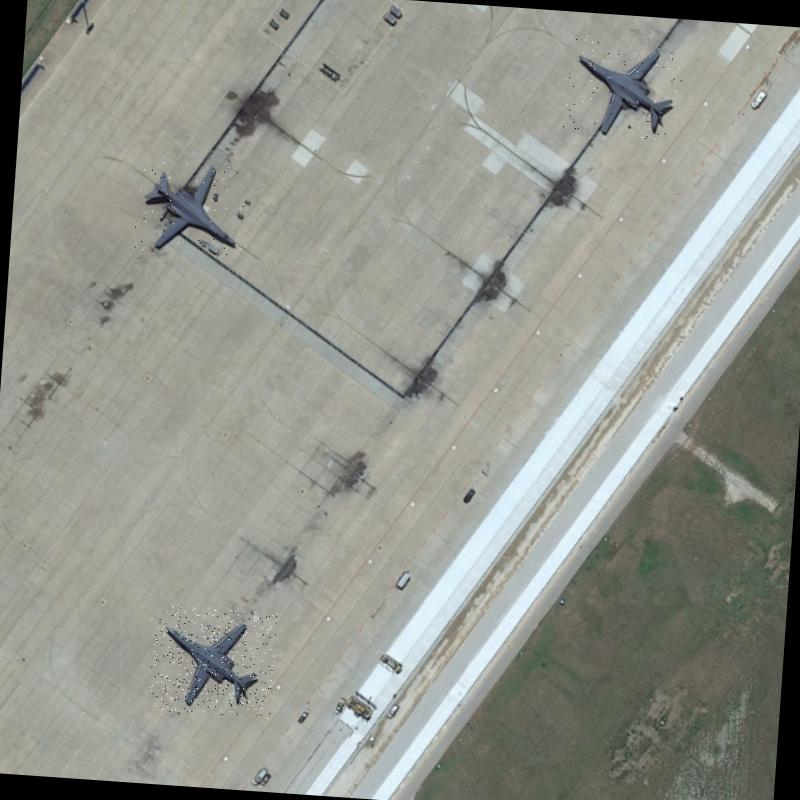A10: (148, 604, 277, 718), (561, 34, 684, 144), (131, 159, 250, 260)
